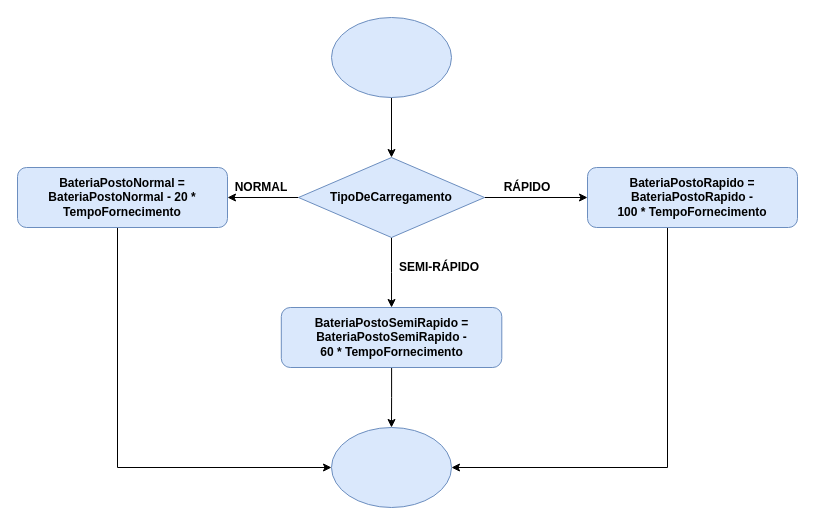
Some shapes in this 815 by 525 pixel diagram are drawn without their labels. Here are the shapes that lost their labels. From the top down, the centre of each, then its label:
the point at 391,57: Início
the point at 391,467: Fim
